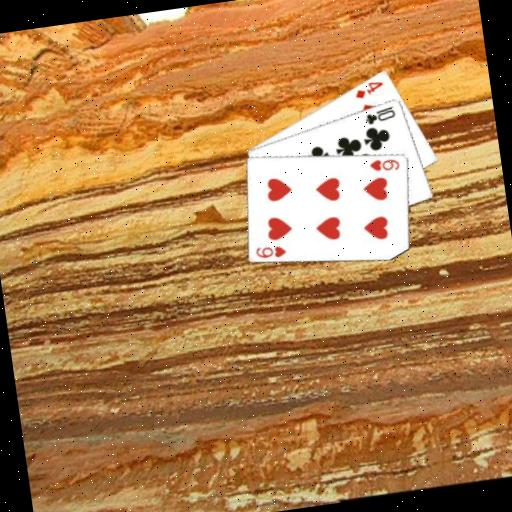10C: (361, 102, 398, 127)
4D: (351, 77, 387, 101)
6H: (366, 154, 402, 176), (253, 240, 289, 262)
